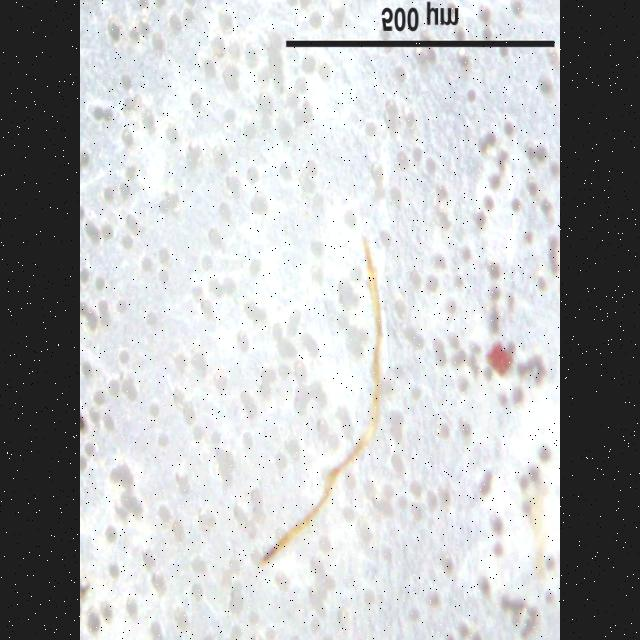Fibre: (257, 237, 385, 568)
